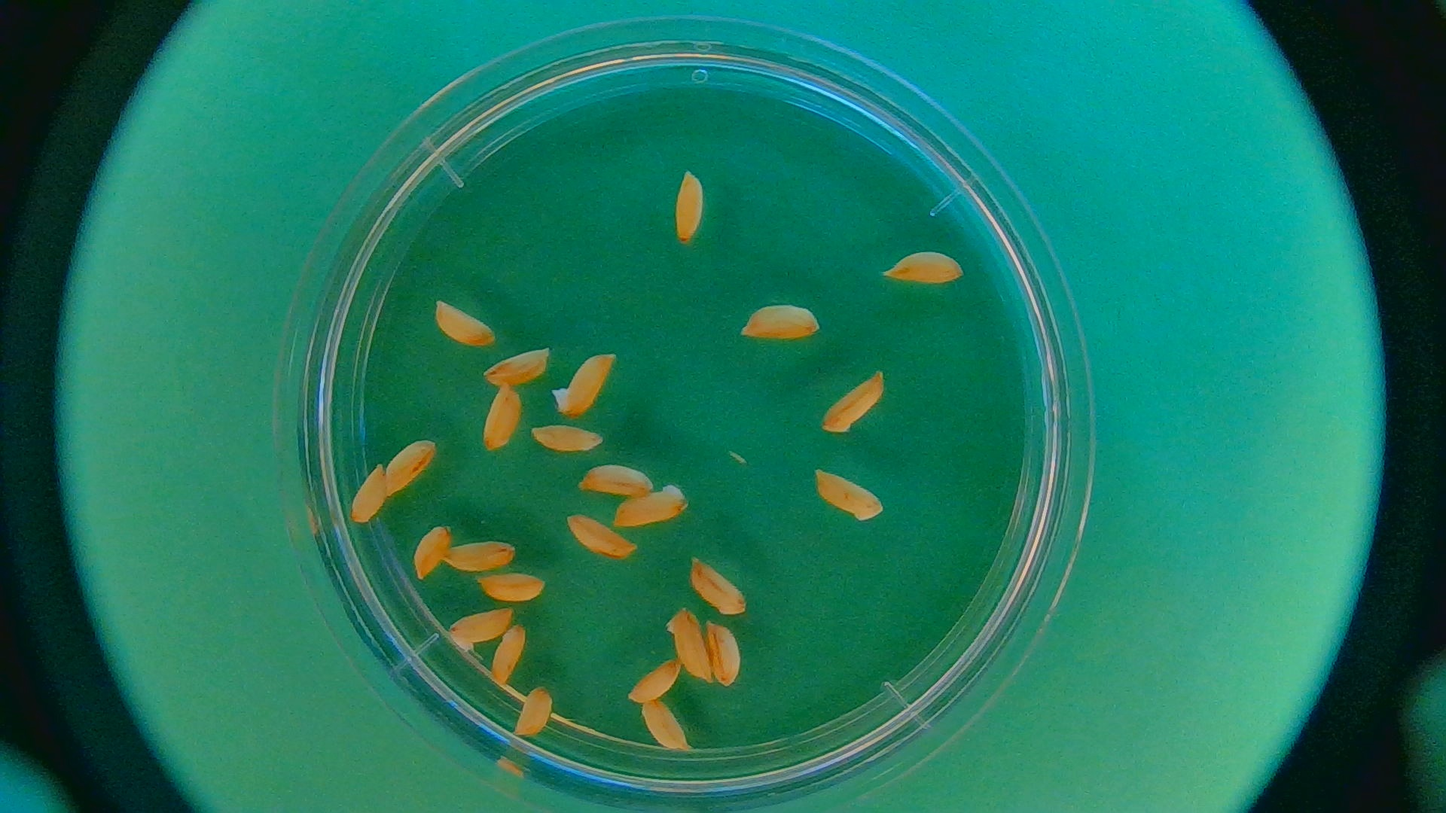no: (667, 602, 716, 685), (553, 349, 615, 411), (687, 556, 748, 617), (825, 370, 885, 431), (563, 514, 636, 562), (484, 339, 552, 390), (612, 483, 687, 528), (813, 472, 880, 521), (740, 302, 818, 344), (431, 300, 497, 349), (887, 249, 964, 288), (386, 437, 436, 494), (627, 655, 685, 703), (674, 166, 706, 246), (444, 537, 517, 572), (706, 626, 744, 693), (451, 609, 511, 651), (483, 385, 520, 451), (350, 461, 388, 524), (576, 464, 651, 495), (410, 522, 452, 577), (642, 698, 687, 749), (530, 423, 603, 453), (492, 626, 527, 687), (479, 572, 547, 602), (512, 688, 551, 739)
